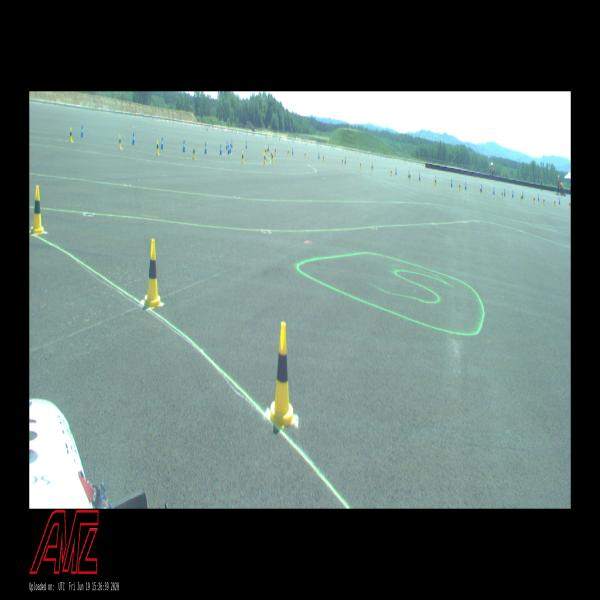blue_cone: (182, 140, 186, 152), (81, 124, 84, 138), (132, 132, 135, 145), (161, 137, 164, 149), (204, 143, 207, 154), (220, 144, 222, 155), (228, 144, 230, 155), (226, 141, 228, 149), (231, 140, 233, 148), (493, 188, 495, 195), (318, 152, 320, 159), (344, 157, 346, 164), (395, 167, 397, 174), (230, 143, 231, 153), (246, 141, 247, 149), (512, 190, 513, 198), (451, 178, 452, 186), (465, 182, 466, 190), (522, 190, 523, 198), (419, 173, 420, 180), (408, 171, 409, 178), (504, 189, 505, 196), (538, 194, 539, 201), (559, 198, 560, 204)
yellow_cone: (268, 322, 297, 425), (144, 239, 162, 308), (30, 185, 45, 235), (118, 134, 122, 150), (69, 127, 73, 142), (156, 140, 159, 155), (193, 146, 196, 159), (242, 151, 245, 163), (264, 147, 267, 156), (479, 186, 482, 195), (264, 151, 266, 164), (272, 152, 274, 162), (459, 182, 461, 191), (266, 146, 268, 155), (390, 168, 392, 176), (501, 190, 503, 198), (543, 197, 545, 205), (520, 194, 522, 202), (371, 163, 373, 171), (533, 196, 535, 204), (568, 200, 570, 208), (434, 178, 436, 186), (304, 152, 306, 159), (554, 199, 556, 206), (287, 149, 289, 156), (341, 158, 343, 165), (409, 173, 411, 180), (271, 150, 272, 159), (323, 154, 324, 162), (360, 161, 361, 168), (275, 148, 276, 154)
